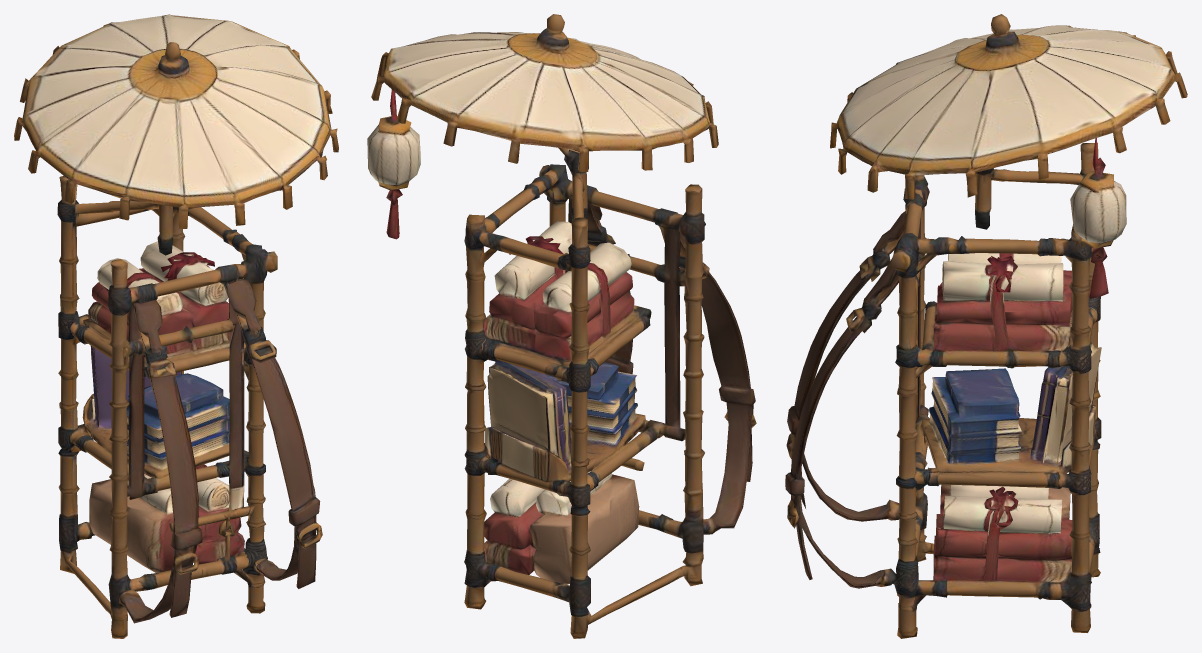
File: book_frame.glb
3 renders of one model, left to right at view 1: azimuth 30°, elevation 25°; view 2: azimuth 150°, elevation 25°; view 3: azimuth 270°, elevation 25°, orthographic. The views are drawn at different scales.
Visible parts, largest first — view 1: book_frame; view 2: book_frame; view 3: book_frame.
Boxes of the visible parts, bbox=[...] form: book_frame: bbox=[14, 14, 338, 638]; book_frame: bbox=[367, 14, 756, 638]; book_frame: bbox=[785, 14, 1187, 638].
Size of the model in its own units: 0.4316 by 0.7941 by 0.484.
1 material, 1 textured.
